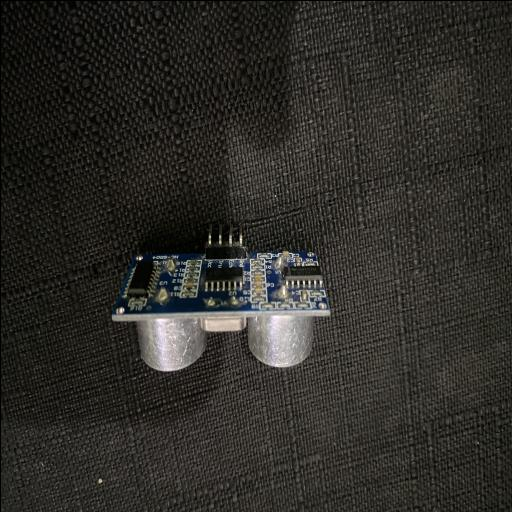Ultrasonic Sensor: (111, 212, 329, 372)
